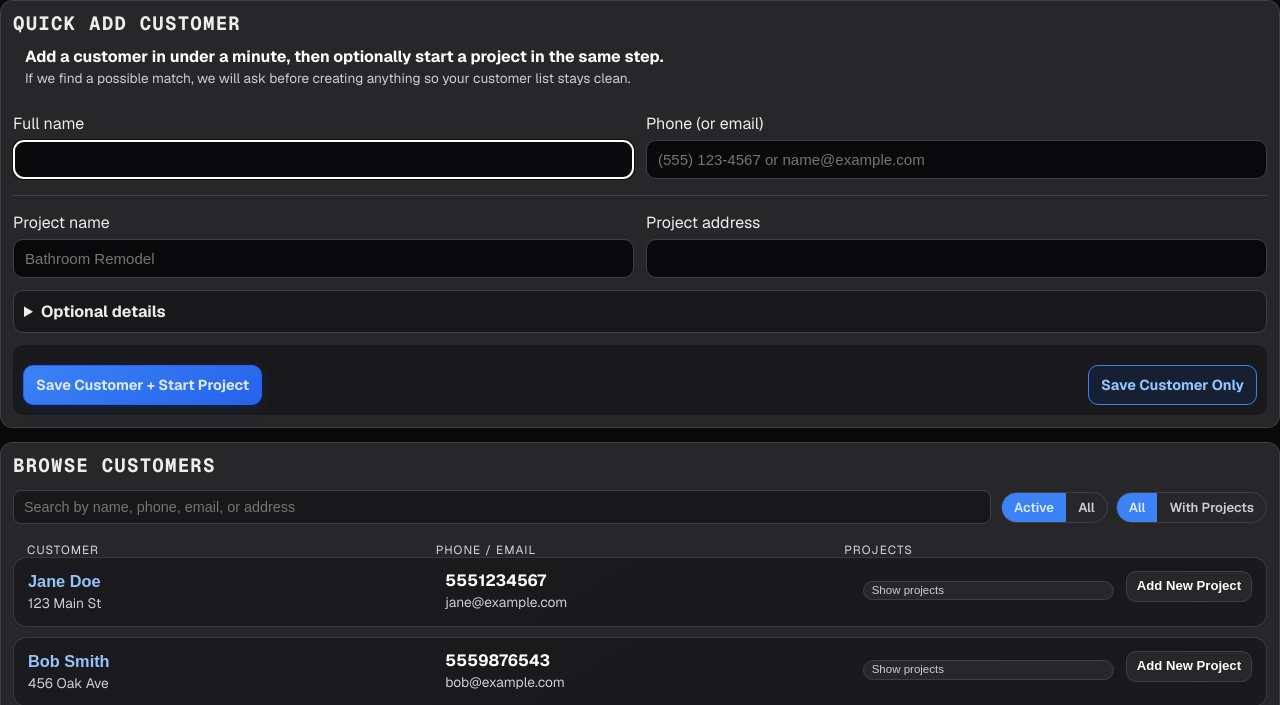
CustomersConsole › saves customer edit via PATCH and closes modal
Click the button "Jane Doe".
click(64, 582)  # box x1=28 y1=572 x2=100 y2=592
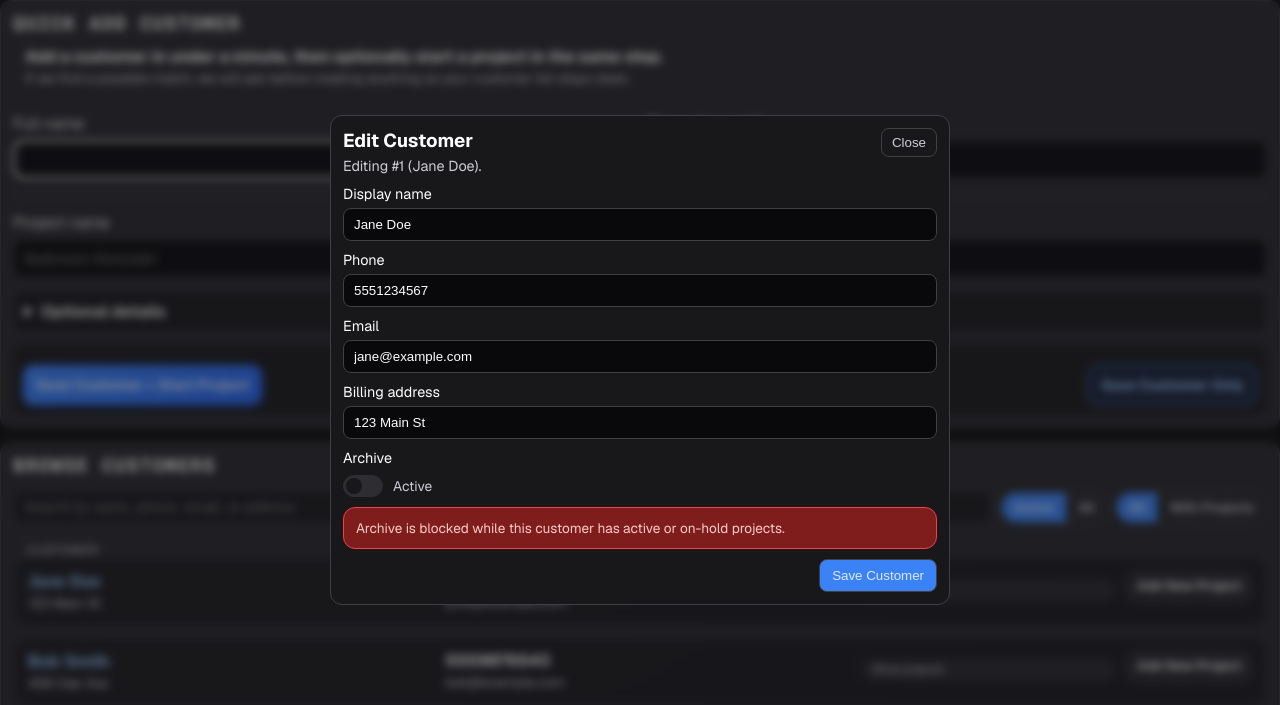
Result: the heading "Edit Customer" is shown at x1=343 y1=128 x2=473 y2=153
Replace the text in the field labelled "Display name" with "Jane Doe-Smith" at (640, 224), box x1=343 y1=208 x2=937 y2=241
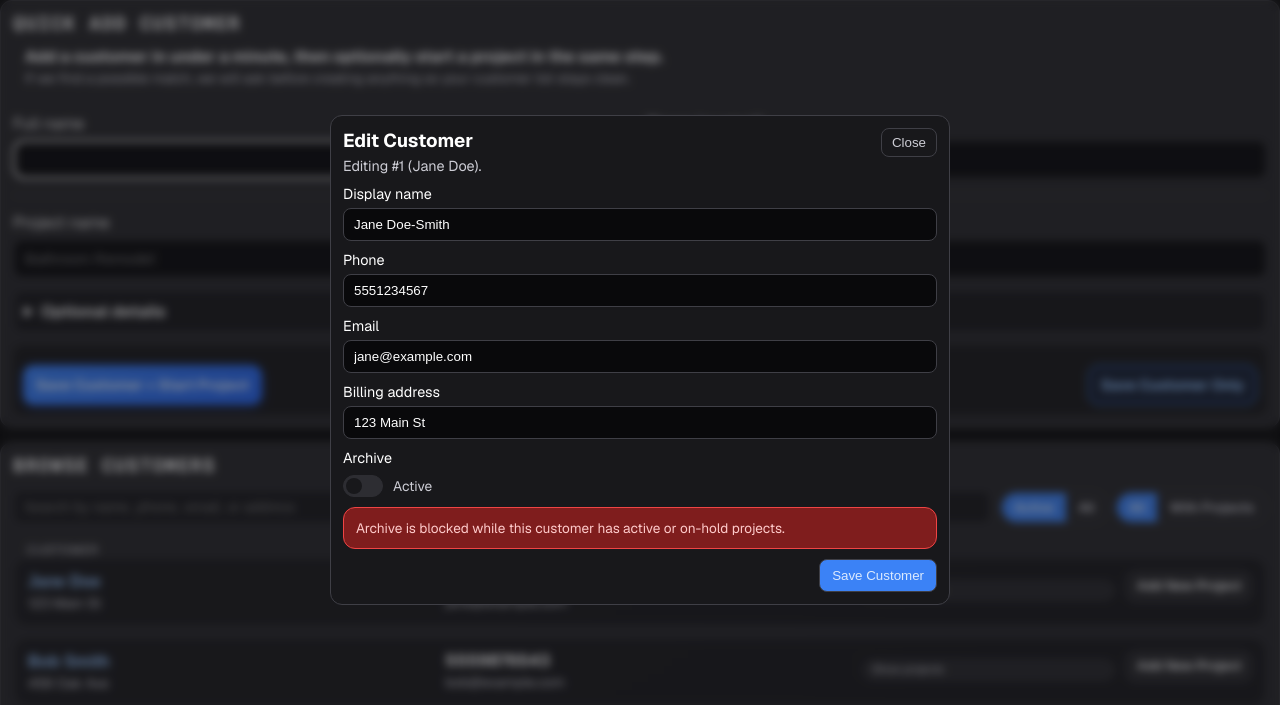
Click the button "Save Customer".
click(878, 576)  # box x1=819 y1=559 x2=937 y2=592
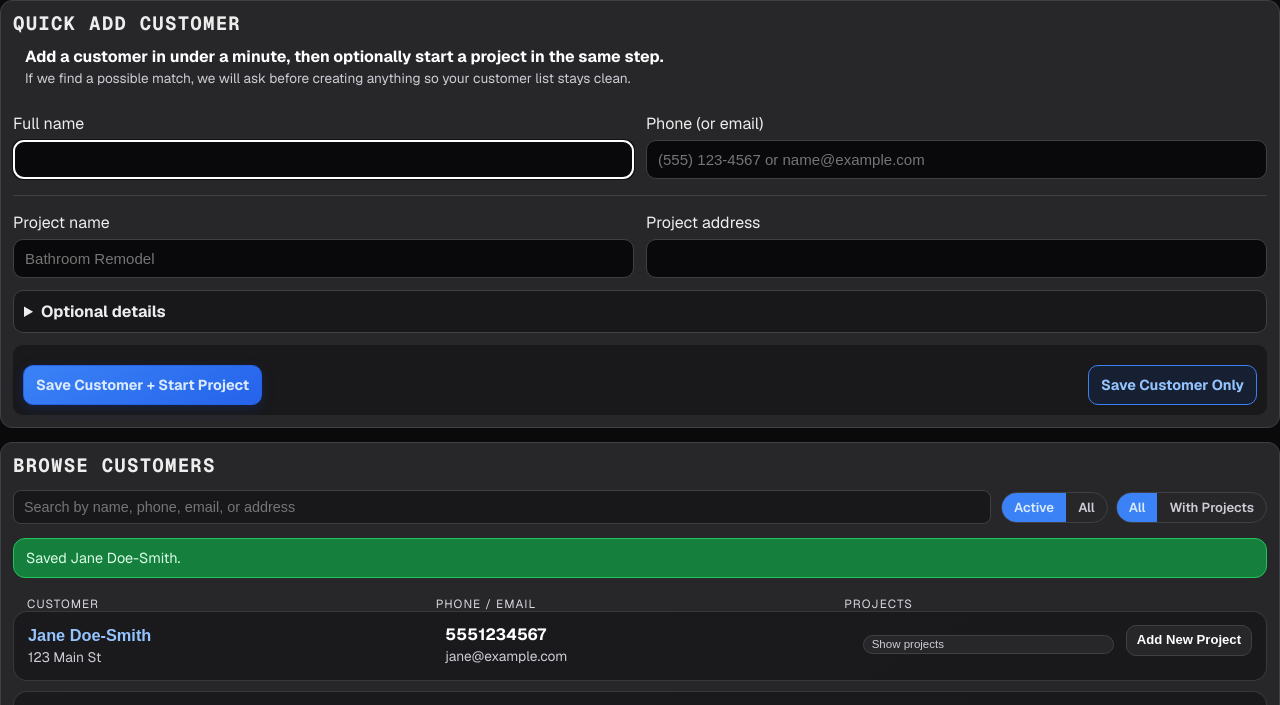
Result: the text "Saved Jane Doe-Smith." is shown at x1=13 y1=538 x2=1267 y2=578
